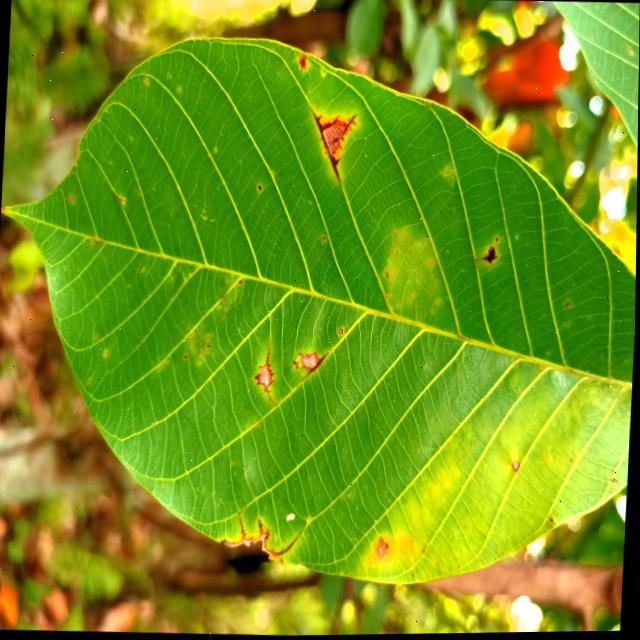Colletotrichum: (514, 461, 520, 470), (551, 517, 555, 524), (340, 328, 344, 334), (239, 280, 243, 284), (258, 186, 262, 190), (323, 236, 326, 240), (496, 237, 498, 242), (519, 391, 521, 393)
Corynespora: (312, 114, 358, 180), (254, 343, 277, 402), (271, 528, 305, 557), (475, 245, 499, 266), (309, 354, 327, 373), (237, 510, 248, 538), (258, 518, 265, 534)
Leaf-Blight: (322, 119, 345, 160), (376, 536, 392, 560), (259, 365, 273, 387), (303, 351, 320, 369)
